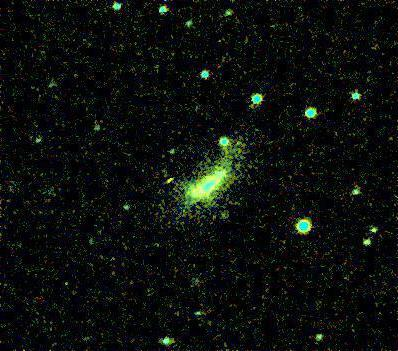star: (158, 163, 188, 193)
